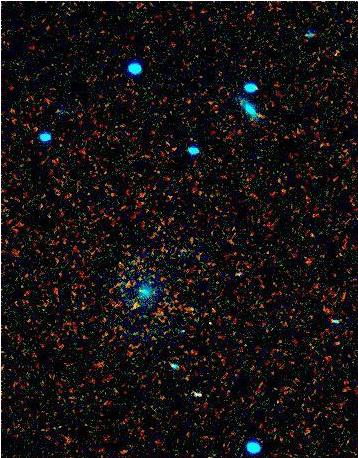star: (124, 267, 154, 297)
